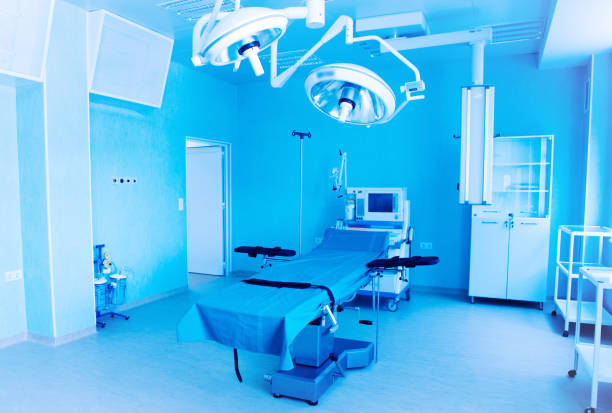bedside_monitor: (360, 187, 411, 222)
cabinet: (466, 134, 556, 311)
iv_pole: (287, 131, 318, 256)
operating_bed: (175, 228, 442, 407)
surgical_light: (198, 7, 289, 77), (303, 63, 397, 126)
utility_cart: (549, 224, 612, 338), (567, 262, 612, 413)
